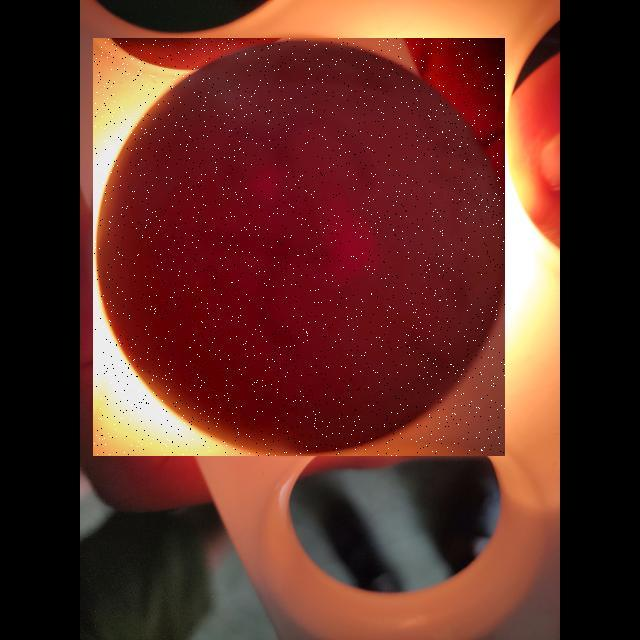Fertile: (93, 38, 505, 456)
